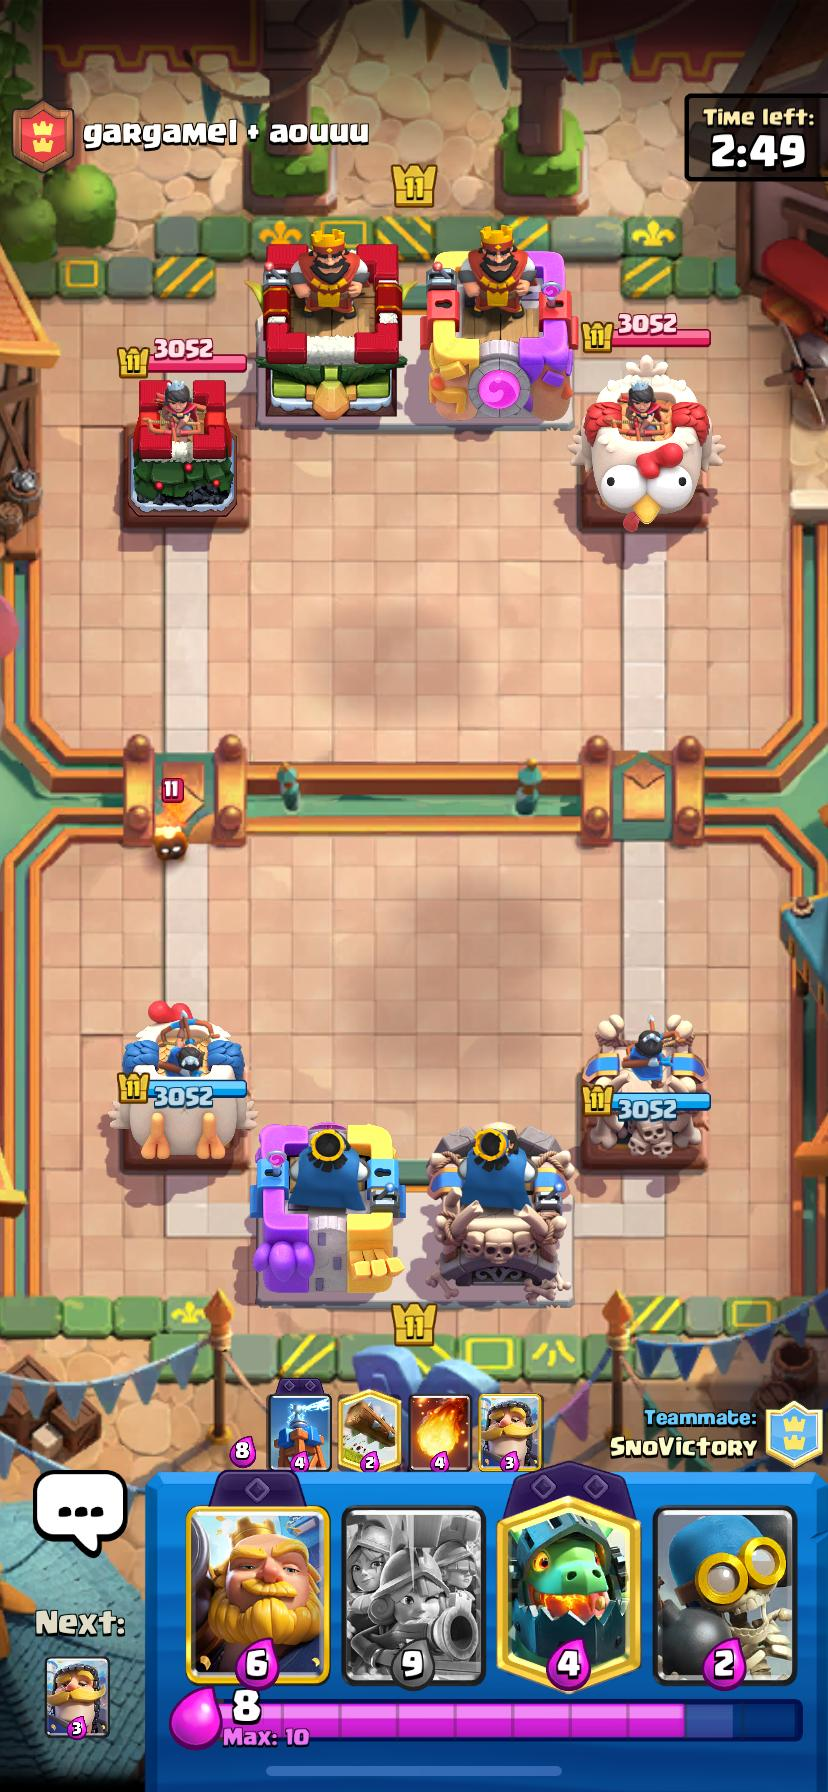EKingTower: (421, 227, 578, 419), (257, 227, 401, 417)
EnemyPrincessTower: (576, 358, 711, 529), (124, 373, 247, 523)
OwnKingTower: (252, 1123, 405, 1304), (427, 1123, 574, 1305)
OwnPrincessTower: (110, 1001, 255, 1160), (580, 1014, 710, 1166)
